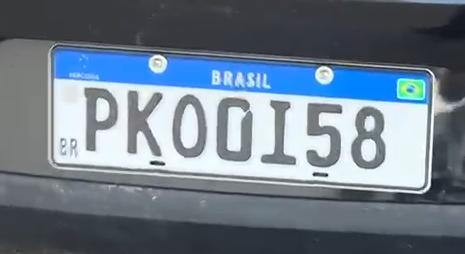Placa_mercosul_carro: (52, 46, 430, 191)
